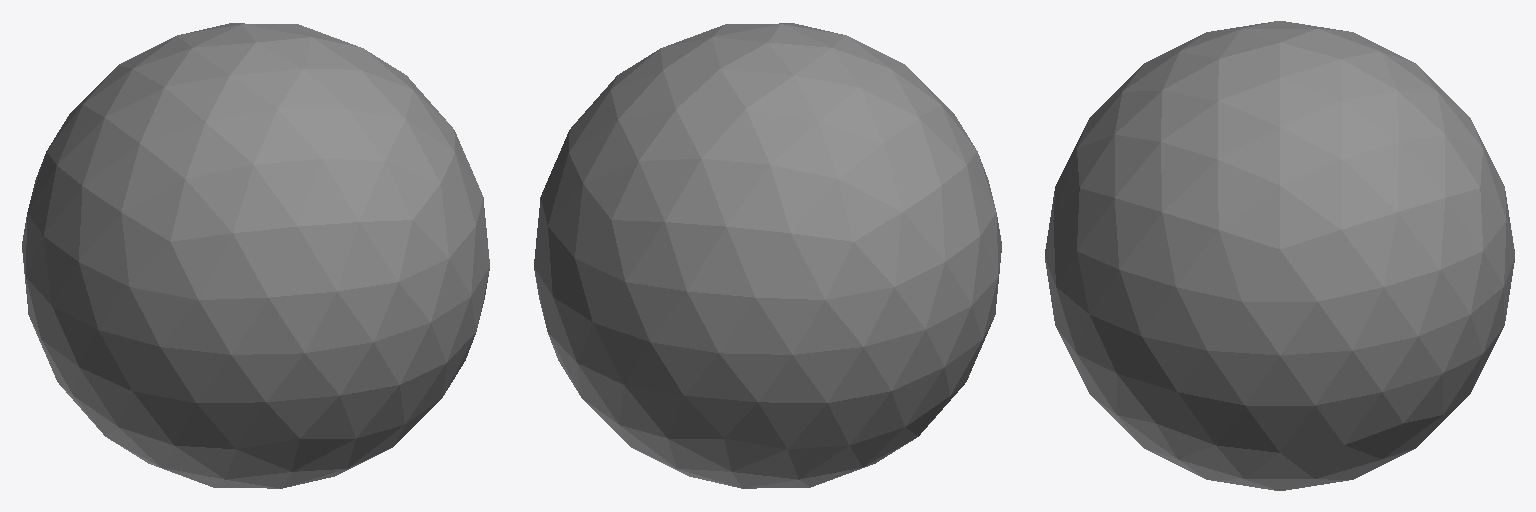
Rendered from venus.obj.
3 renders of one model, left to right at view 1: azimuth 30°, elevation 25°; view 2: azimuth 150°, elevation 25°; view 3: azimuth 270°, elevation 25°, orthographic.
Parts seen in each view (by area): view 1: GeoSphere001; view 2: GeoSphere001; view 3: GeoSphere001.
Boxes of the visible parts, box(x1,y1,x2,y2) form: GeoSphere001: box(22, 23, 489, 488); GeoSphere001: box(534, 23, 1001, 488); GeoSphere001: box(1045, 21, 1514, 490).
Size of the model in its own units: 12 by 12 by 12.